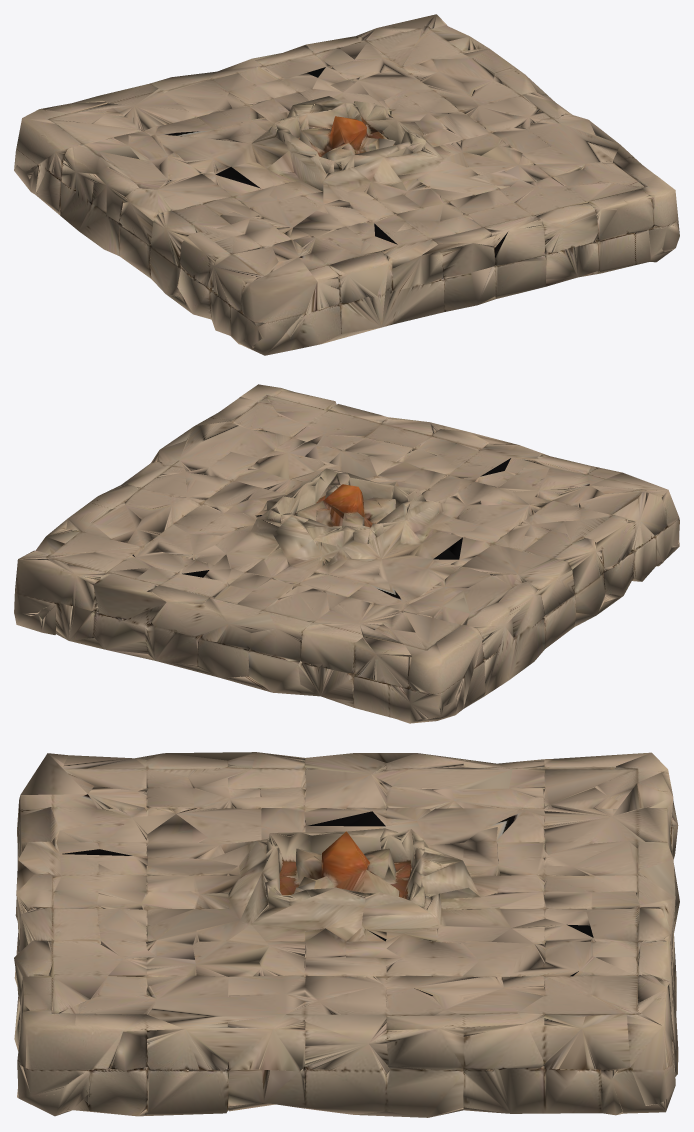
File: ficha_de_juego.glb
The picture shows the model from 3 angles, top to bottom: view 1: azimuth 30°, elevation 25°; view 2: azimuth 150°, elevation 25°; view 3: azimuth 270°, elevation 25°; orthographic projection. The views are drawn at different scales.
Parts seen in each view (by area): view 1: ficha_de_juego; view 2: ficha_de_juego; view 3: ficha_de_juego.
Part boxes in pixels (x1,y1,x2,y2): ficha_de_juego: (14, 14, 679, 355); ficha_de_juego: (14, 384, 679, 723); ficha_de_juego: (14, 752, 679, 1117).
Size of what is drawn, in the model's own units: 0.3024 by 0.0724 by 0.3033.
1 material, 1 textured.
